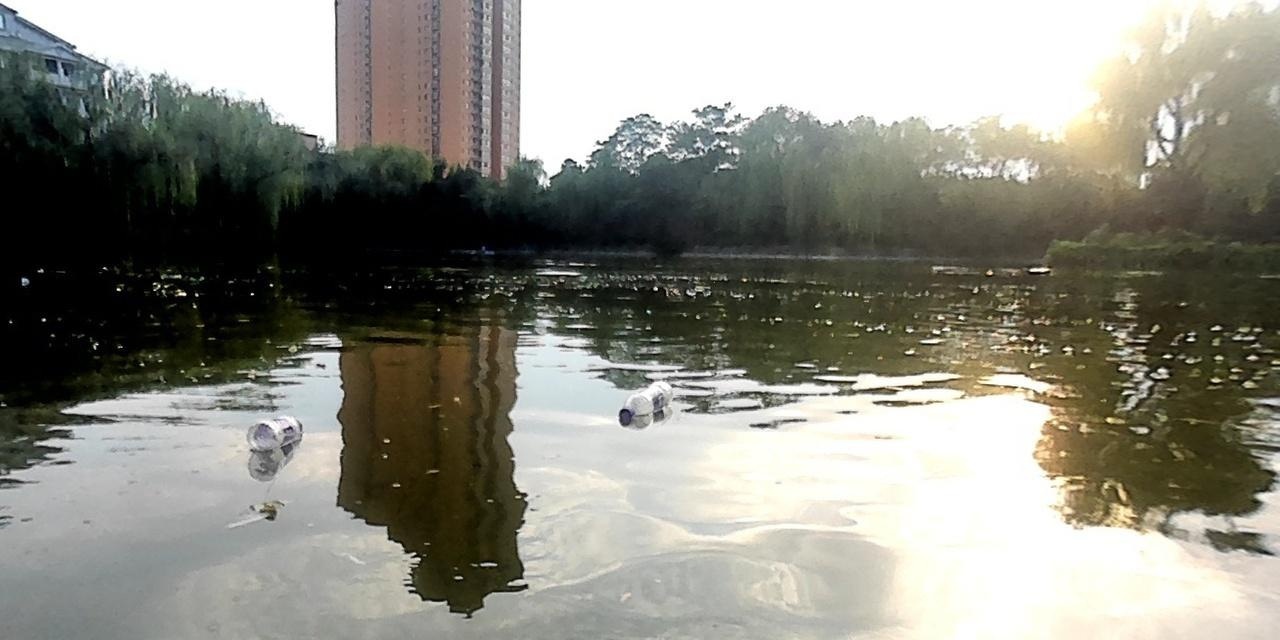bottle: (614, 376, 673, 427), (244, 412, 304, 454)
